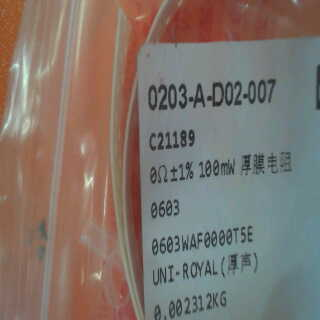0R: (146, 156, 198, 222)
